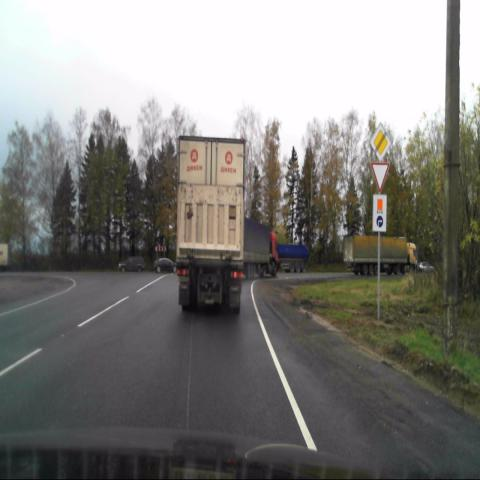4_8_3: (373, 195, 386, 232)
